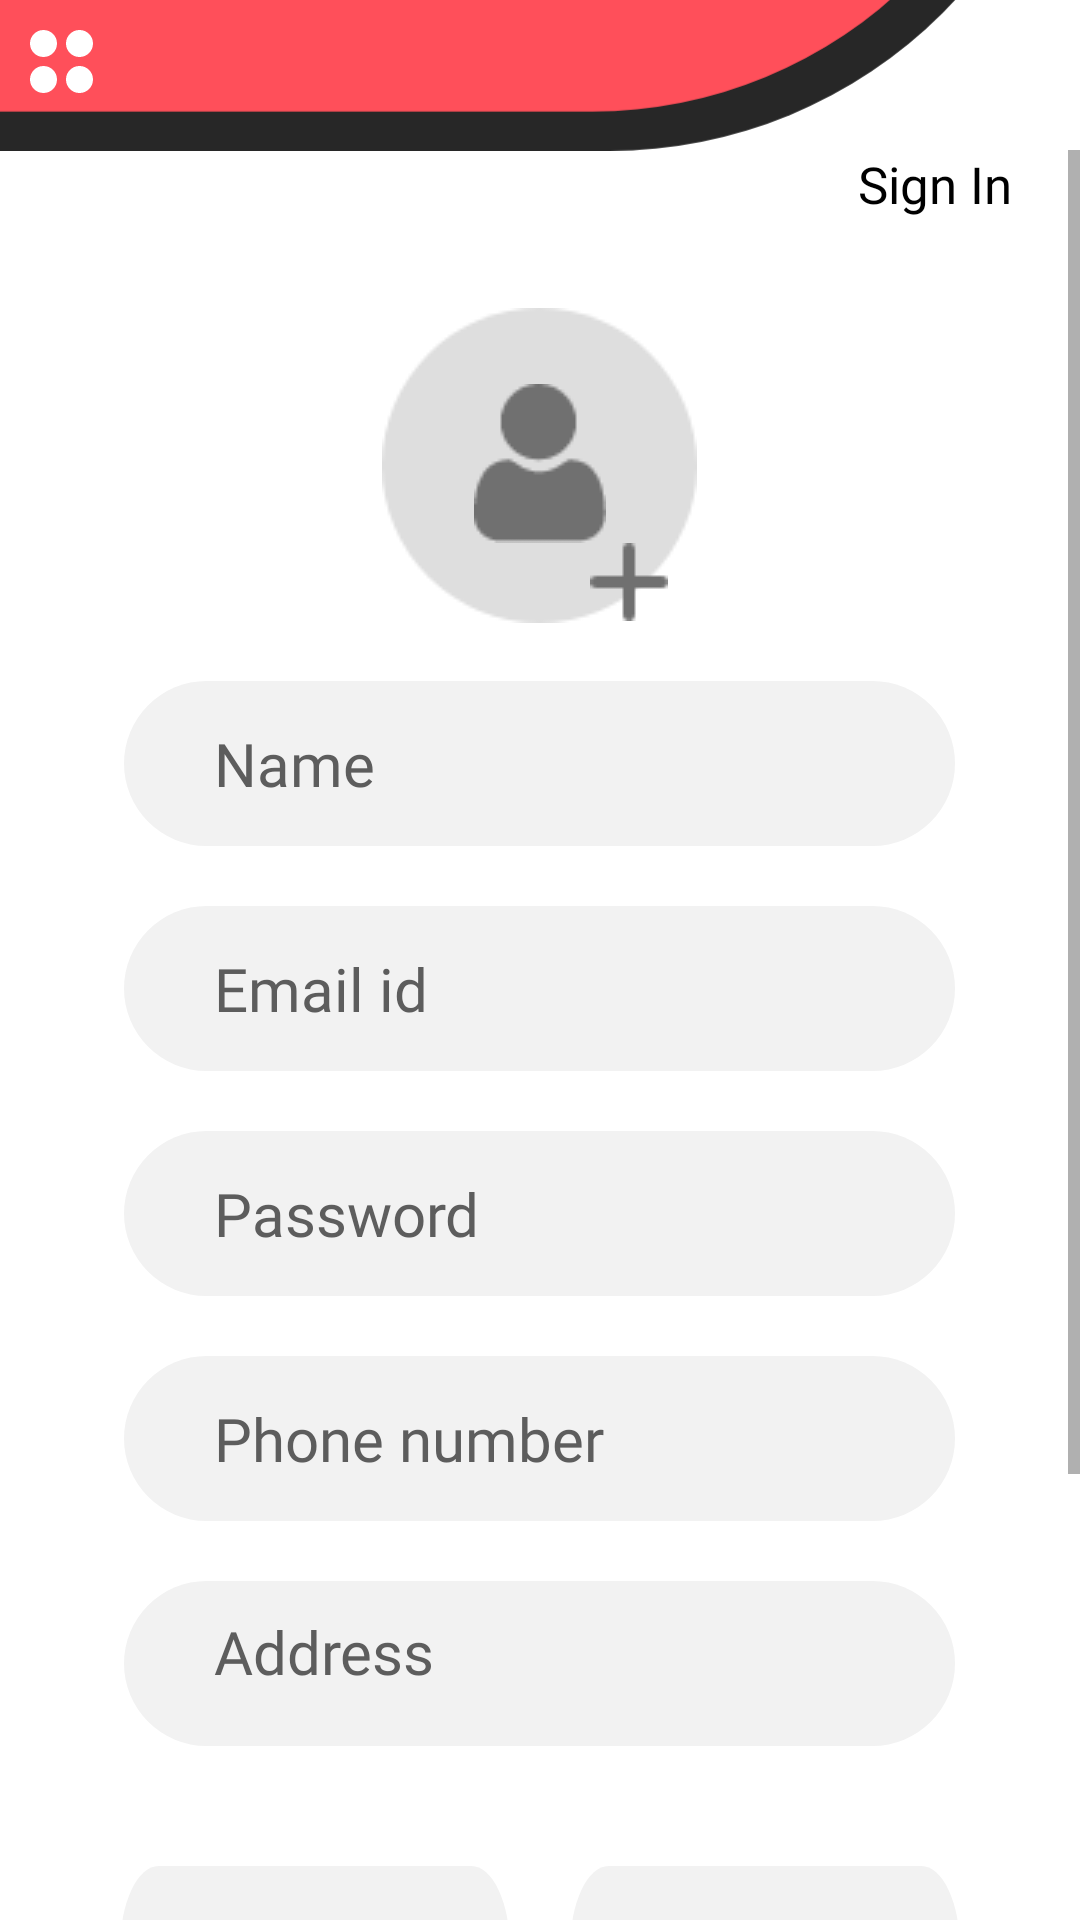

Screen size 1080 x 1920. Icon name, then its center in pixels as [x,y]:
dots: [61,61]
profile: [540,463]
